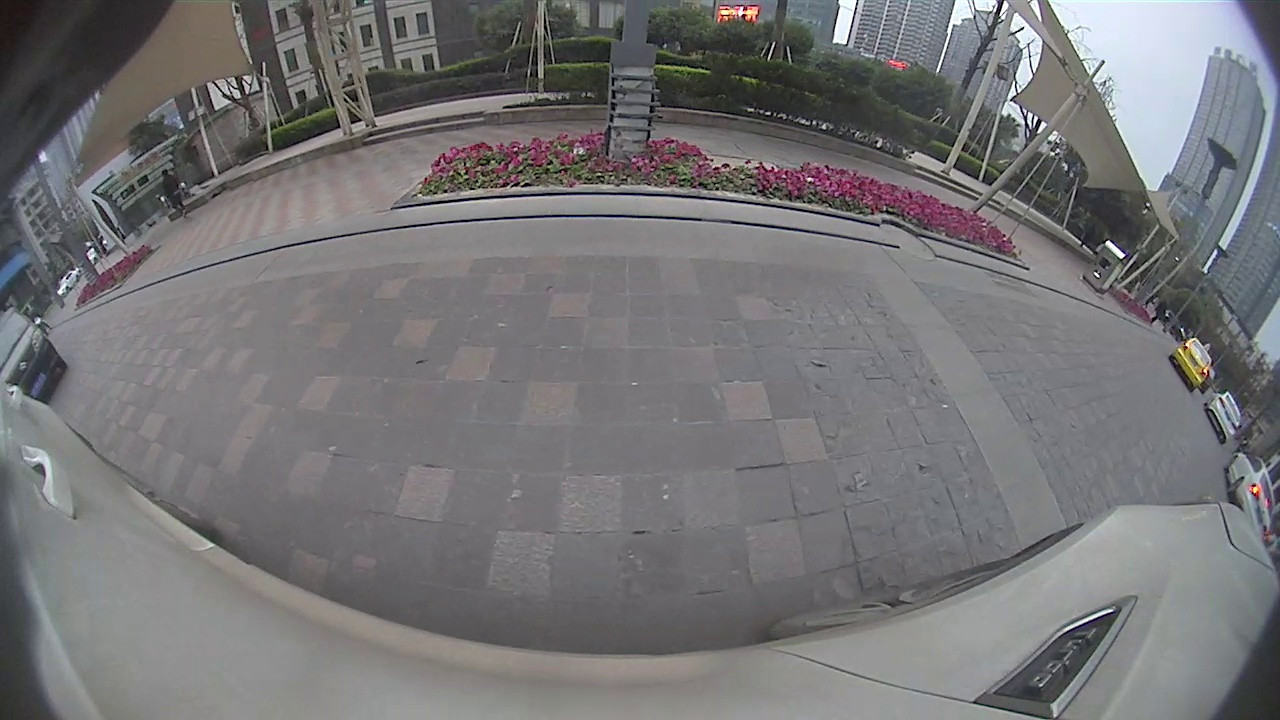car: (3, 301, 68, 405), (1224, 450, 1274, 532), (1167, 335, 1213, 392), (1203, 389, 1242, 443)
